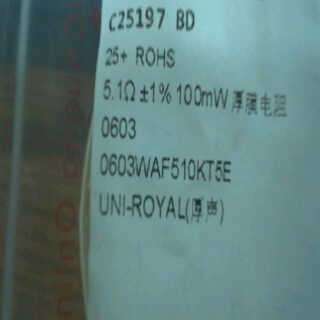5.1R: (103, 75, 140, 104)
